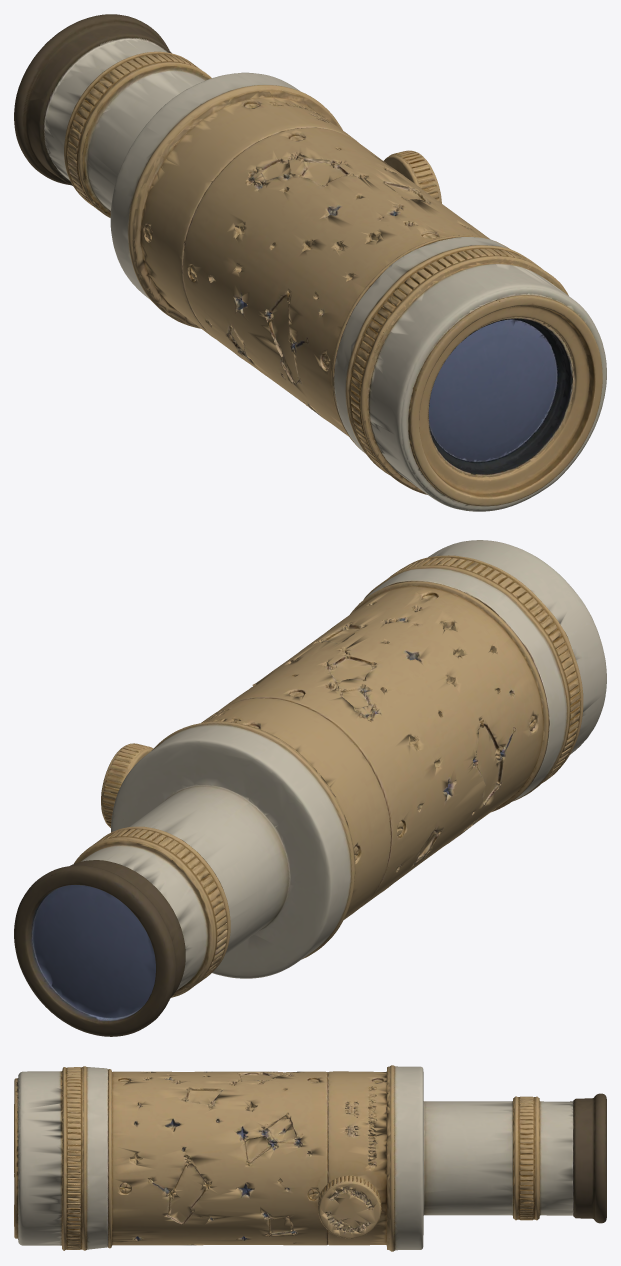
The model's file is telescope.glb.
3 renders of one model, top to bottom at view 1: azimuth 30°, elevation 25°; view 2: azimuth 150°, elevation 25°; view 3: azimuth 270°, elevation 25°, orthographic. The views are drawn at different scales.
Visible parts, largest first — view 1: tripo_node_b4241ae9-7736-469a-9773-42ac6957ddc3; view 2: tripo_node_b4241ae9-7736-469a-9773-42ac6957ddc3; view 3: tripo_node_b4241ae9-7736-469a-9773-42ac6957ddc3.
Boxes of the visible parts, left/top/right/bottom form: tripo_node_b4241ae9-7736-469a-9773-42ac6957ddc3: left=14, top=14, right=606, bottom=511; tripo_node_b4241ae9-7736-469a-9773-42ac6957ddc3: left=14, top=540, right=606, bottom=1036; tripo_node_b4241ae9-7736-469a-9773-42ac6957ddc3: left=14, top=1065, right=606, bottom=1251.
Size of the model in its own units: 0.3566 by 0.3092 by 0.98.
Materials: 1 (1 with a texture image).
